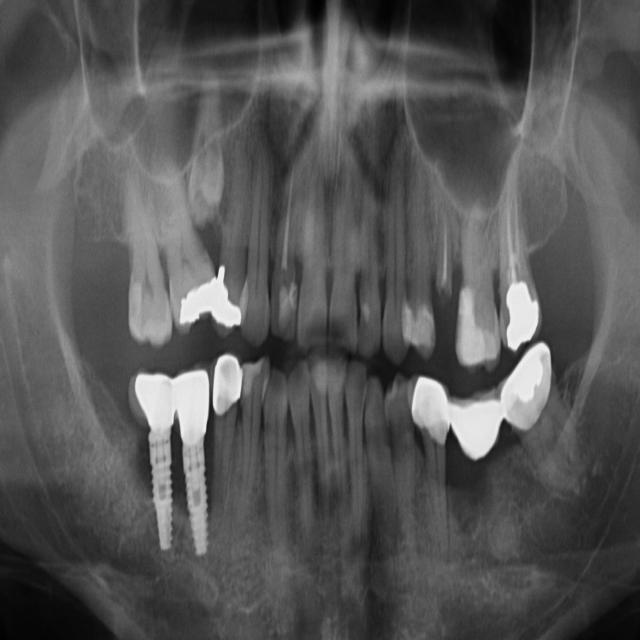dentin-curugu: (302, 312, 328, 346), (327, 312, 349, 346)
dolgu: (458, 286, 498, 366), (495, 283, 541, 344), (397, 297, 434, 349), (175, 279, 217, 322), (219, 266, 245, 328)
implant: (133, 352, 177, 558), (174, 356, 216, 554)
kanal-tedavisi: (500, 173, 534, 294), (272, 150, 299, 276), (438, 218, 452, 302)
kaplama: (489, 331, 570, 443), (416, 375, 452, 441), (214, 356, 241, 406)
kirik: (432, 258, 461, 332)
kopru: (445, 380, 504, 472)
